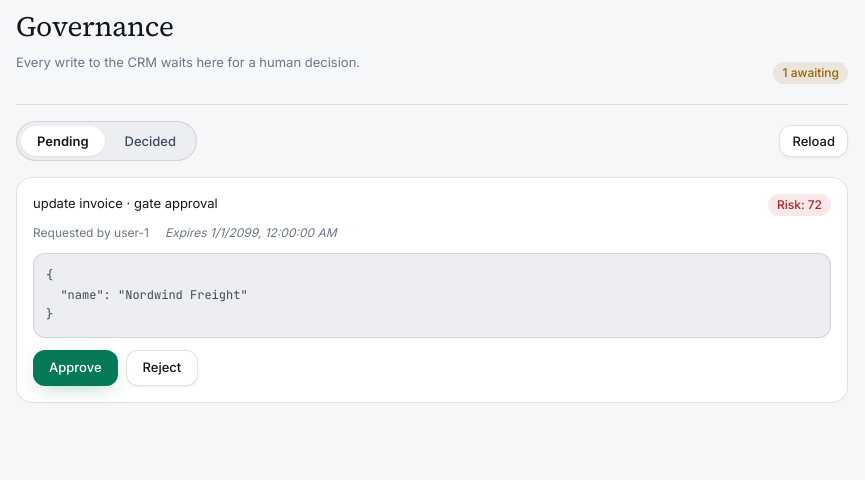
Test: ApprovalQueue › a draft this build cannot apply is not shown as a retryable failure
The width and height of the screenshot is (865, 480).
Click the button "Approve" at [75, 368], box [33,350,118,386]
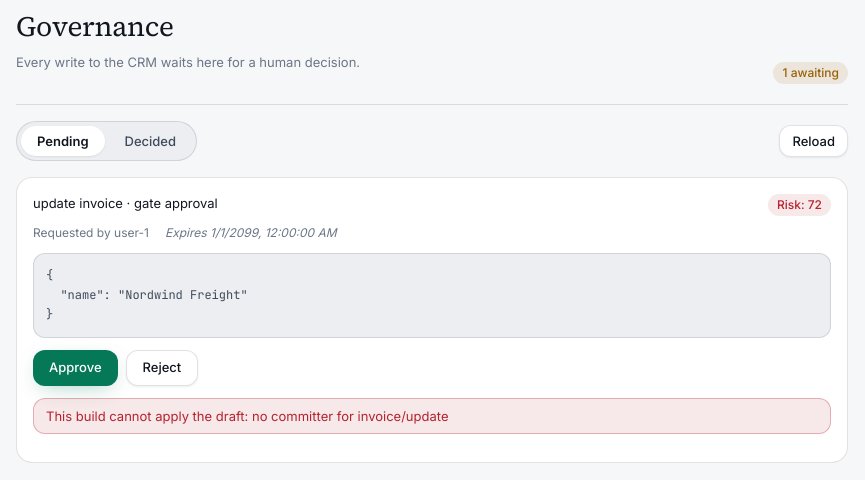
Expected: the message shows "cannot apply the draft", [46,408,448,424]
Expected: the message shows "no committer for invoice/update", [46,408,448,424]
